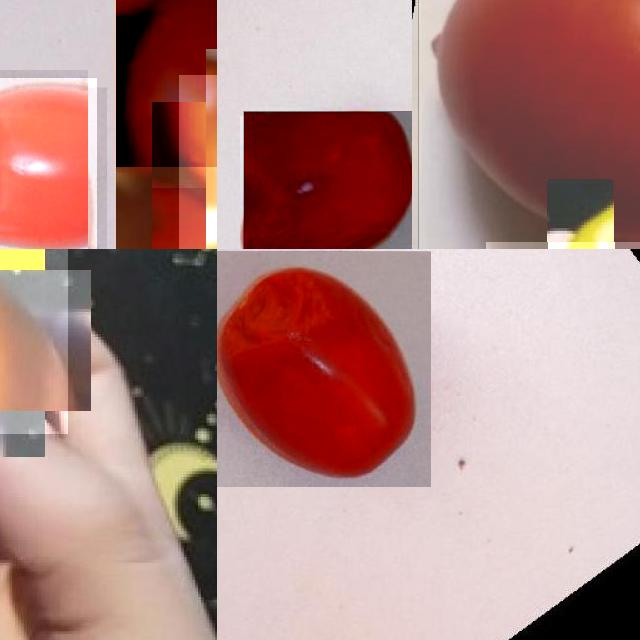0: (116, 0, 217, 167), (0, 78, 97, 249)
Fresh Tomato: (419, 0, 640, 249)
Rotten Tomato: (217, 251, 430, 487), (243, 111, 412, 249), (0, 249, 68, 434)
